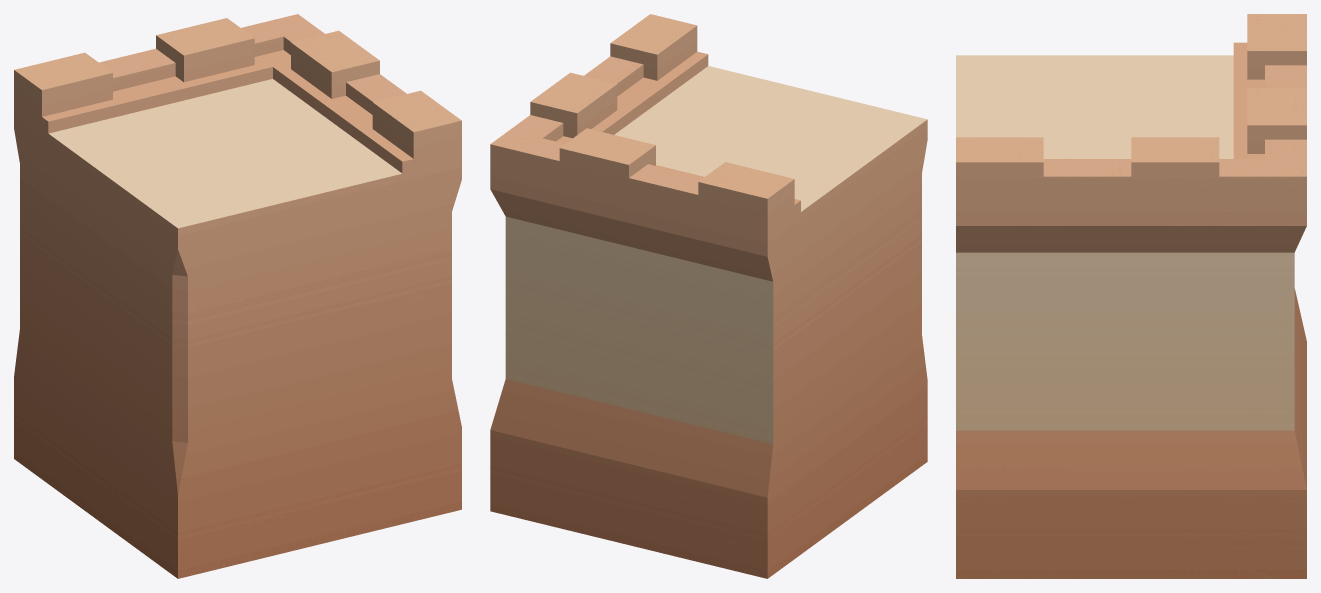
The model's file is wall-corner-half.glb.
3 views of the same model, side by side, from view 1: azimuth 30°, elevation 25°; view 2: azimuth 150°, elevation 25°; view 3: azimuth 270°, elevation 25° (orthographic). The views are drawn at different scales.
Parts seen in each view (by area): view 1: wall-corner-half; view 2: wall-corner-half; view 3: wall-corner-half.
Boxes of the visible parts, box(x1,y1,x2,y2) form: wall-corner-half: box(14, 14, 461, 578); wall-corner-half: box(490, 14, 927, 578); wall-corner-half: box(956, 14, 1306, 578).
Bounding box in the file's own units: 1 × 1.31 × 1.
1 material, 1 textured.
